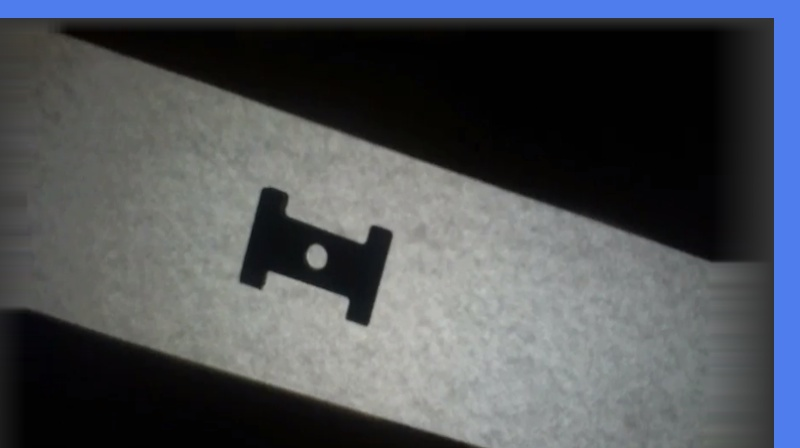O002: (237, 183, 397, 327)
